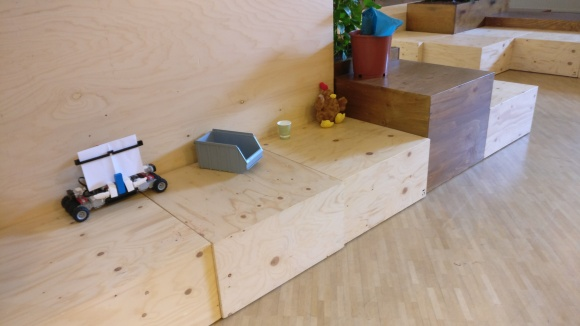car: (61, 134, 169, 223)
chicken: (311, 81, 348, 129)
cup: (275, 118, 292, 140)
tray: (193, 127, 264, 174)
